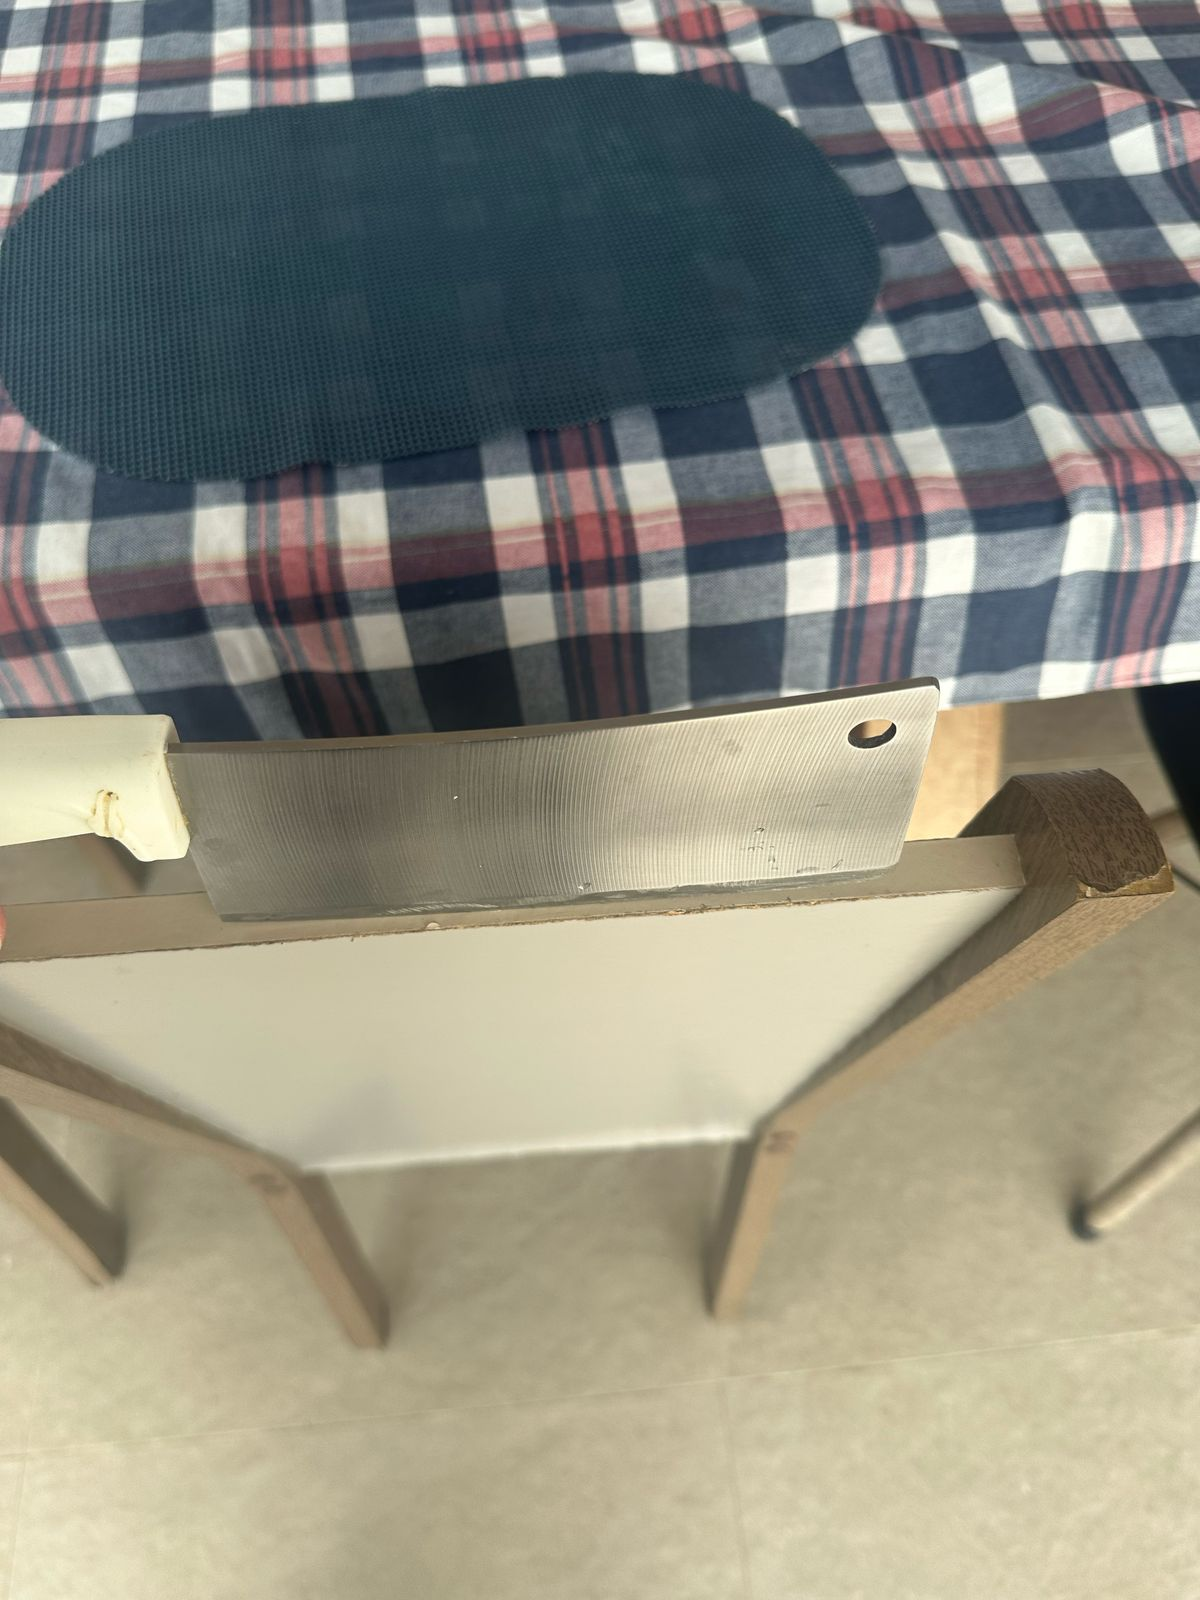faca: (24, 653, 957, 939)
